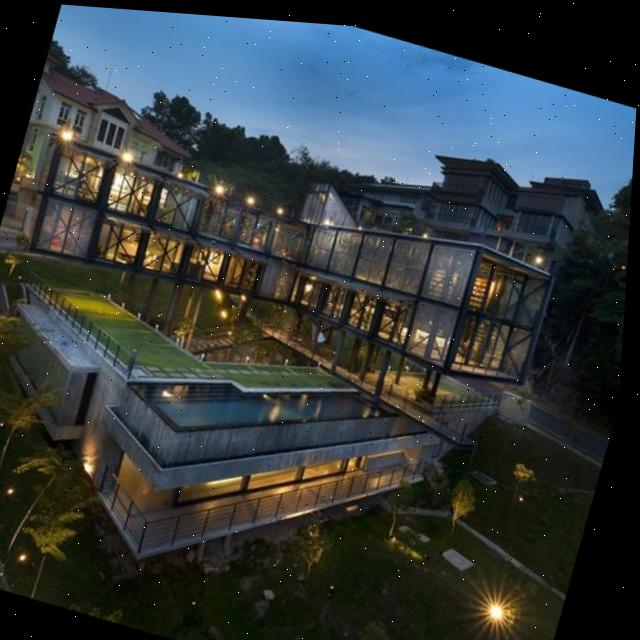building: (0, 108, 567, 448), (324, 105, 605, 266), (22, 46, 206, 185)
